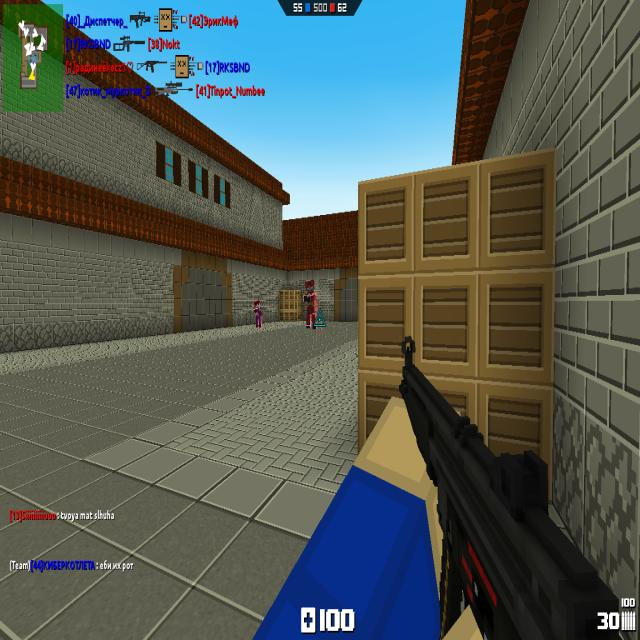enemy: (303, 280, 317, 330), (254, 300, 262, 328)
